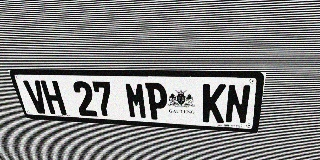2: (72, 81, 97, 116)
7: (91, 81, 116, 117)
H: (40, 80, 67, 115)
K: (202, 84, 226, 123)
M: (124, 82, 148, 119)
N: (224, 84, 252, 124)
P: (145, 82, 168, 120)
V: (23, 80, 50, 114)
